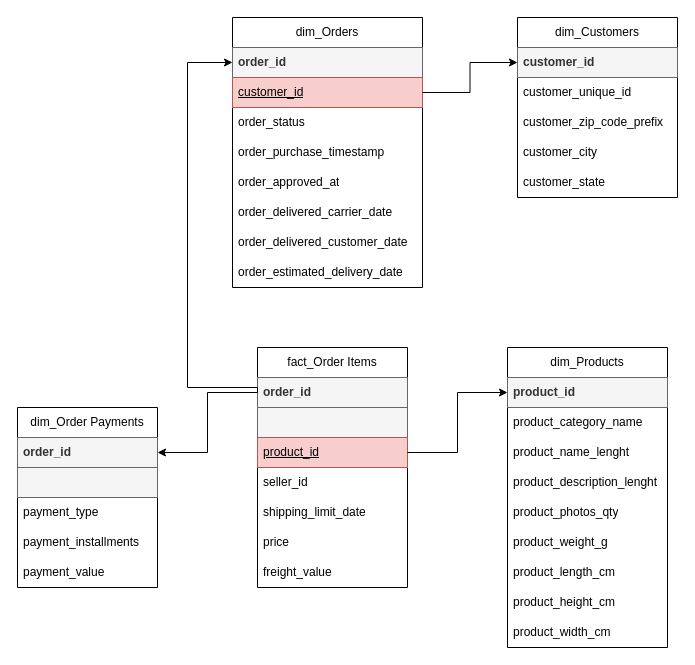
This 695x665 diagram has some shape labels left out. The centre of each missing label's shape, as x and y in pixels:
"order_item_id" belongs at (x=332, y=422).
"payment_sequential" belongs at (x=87, y=482).
